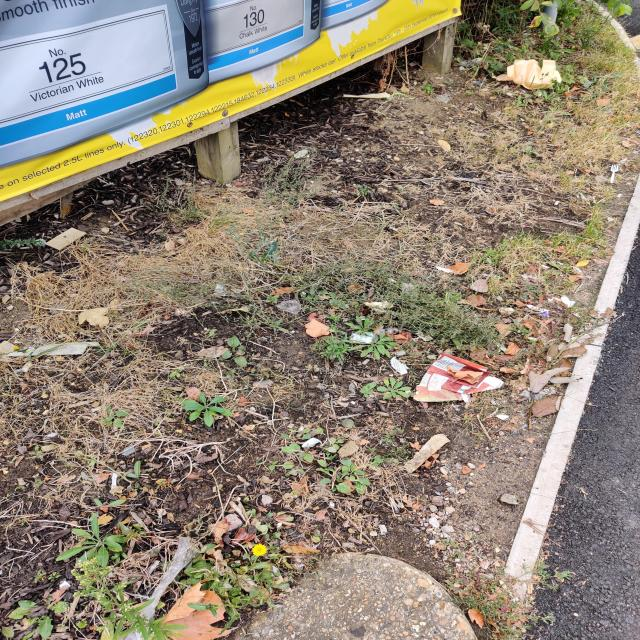litter: (413, 352, 508, 399)
